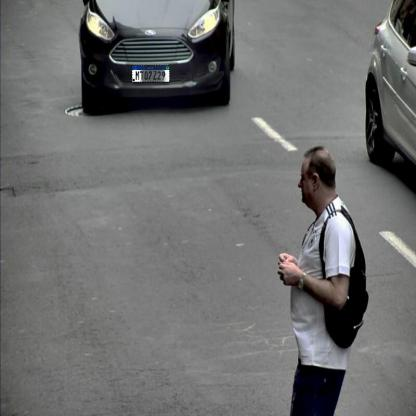PlacaM: (132, 65, 170, 83)
